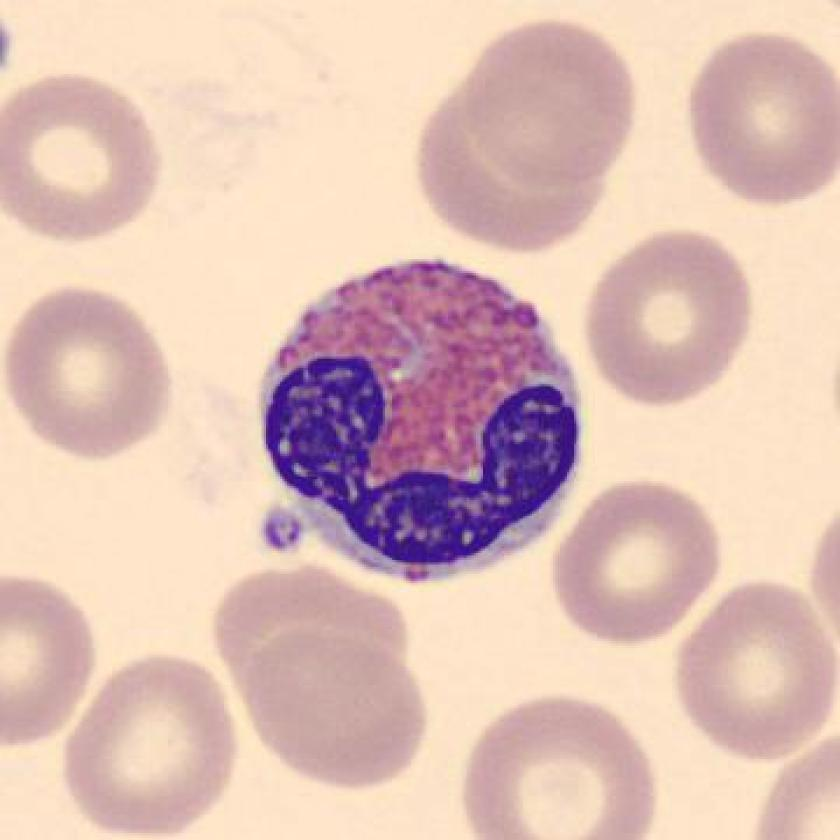eosinophil: (248, 242, 594, 593)
